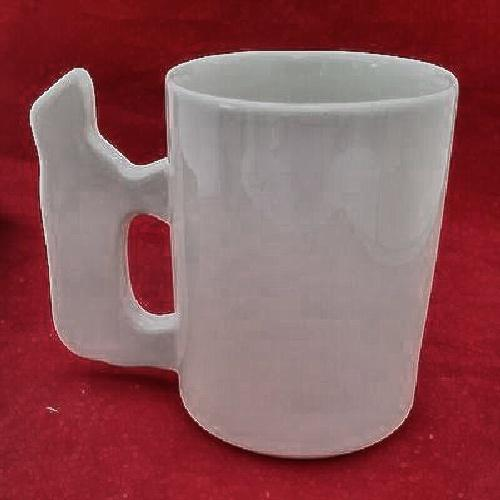mug: (41, 62, 449, 462)
